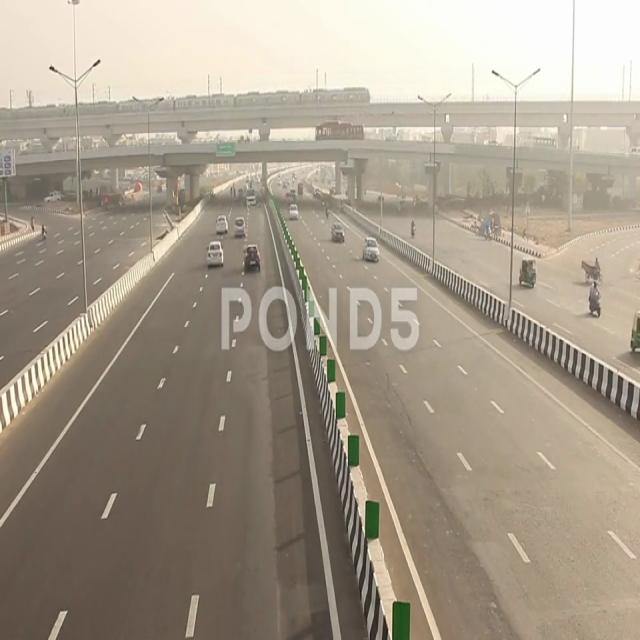car: (362, 233, 382, 269), (204, 239, 224, 271), (244, 243, 262, 273), (330, 222, 346, 248), (233, 214, 247, 238)
rikshaw: (518, 255, 537, 293)
